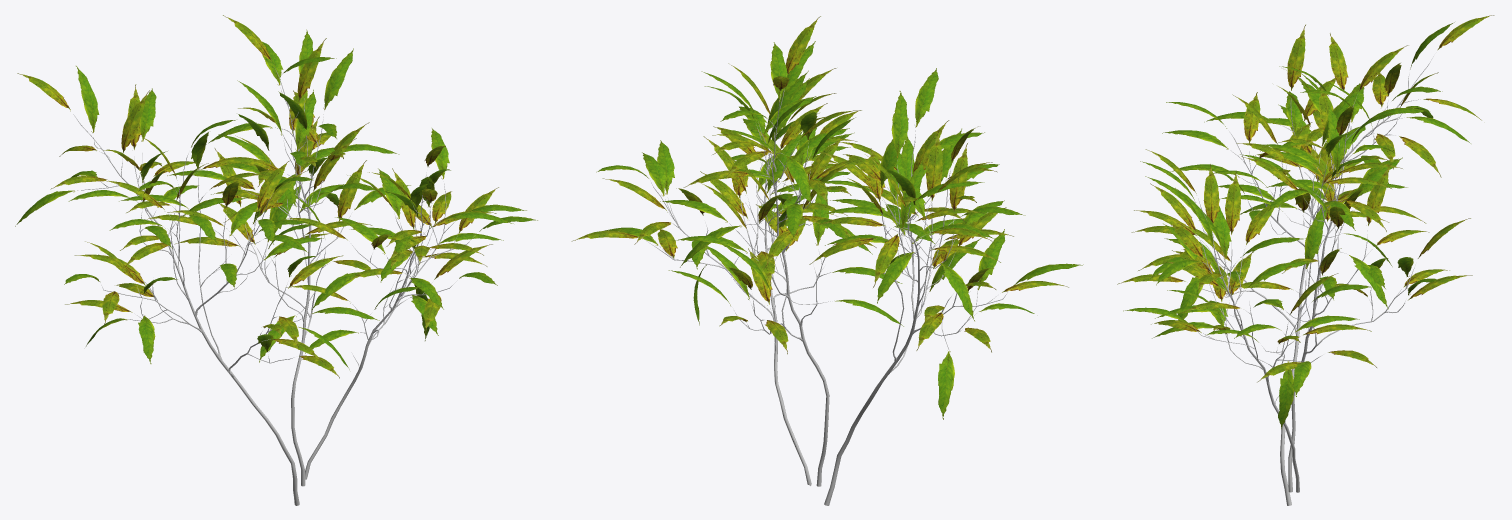
File: plant2.gltf
3 views of the same model, side by side, from view 1: azimuth 30°, elevation 25°; view 2: azimuth 150°, elevation 25°; view 3: azimuth 270°, elevation 25° (orthographic). The views are drawn at different scales.
Visible parts, largest first — view 1: GS Autumn bush full 02; view 2: GS Autumn bush full 02; view 3: GS Autumn bush full 02.
Part boxes in pixels (left/top/right/bottom): GS Autumn bush full 02: left=15, top=15, right=537, bottom=505; GS Autumn bush full 02: left=571, top=16, right=1083, bottom=505; GS Autumn bush full 02: left=1117, top=15, right=1494, bottom=505.
Bounding box in the file's own units: 0.9332 × 0.8923 × 0.6822.
